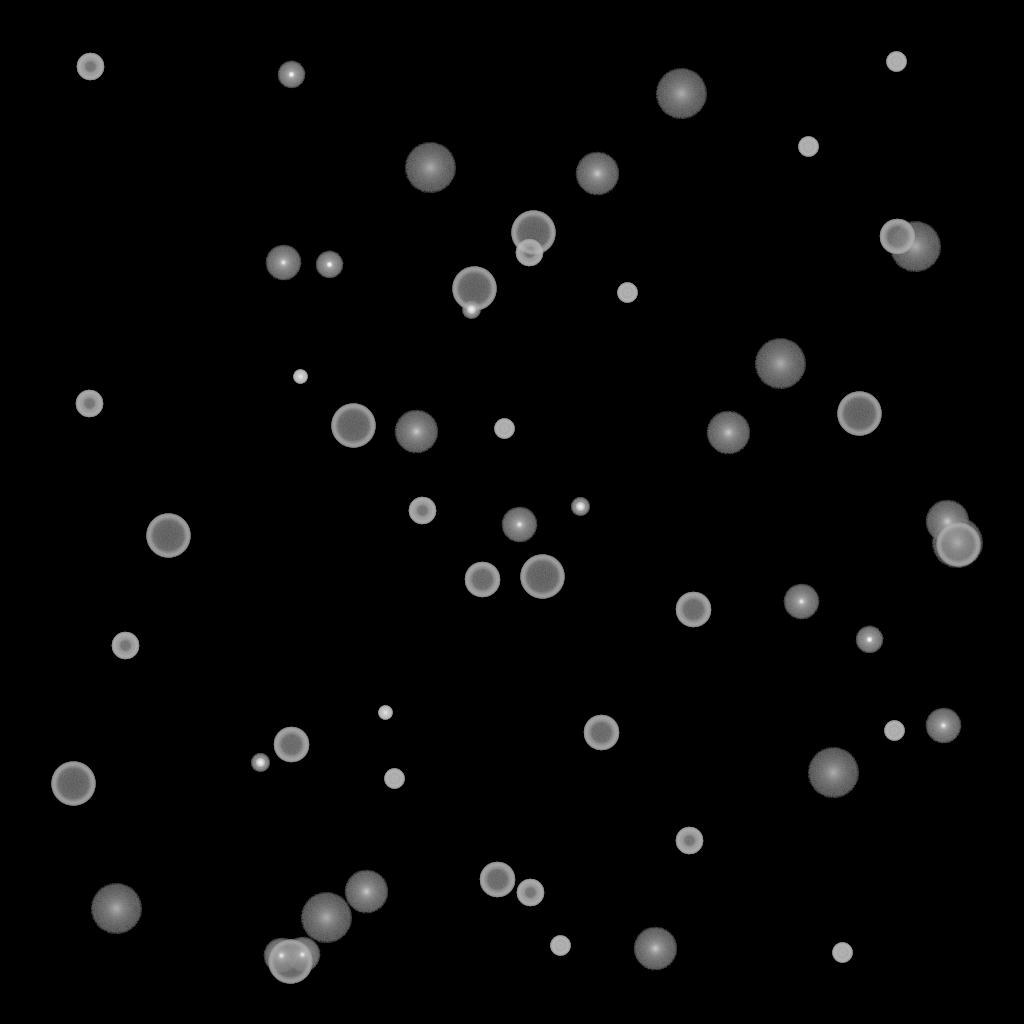depth:-10: (315, 251, 343, 279), (855, 626, 883, 654), (277, 61, 305, 89)
depth:-20: (251, 754, 269, 772), (462, 301, 480, 319), (571, 498, 589, 516)
depth:-30: (293, 370, 307, 384), (378, 706, 392, 720)
depth:-40: (494, 419, 514, 439), (550, 936, 570, 956), (798, 137, 818, 157), (884, 721, 904, 741), (617, 283, 637, 303), (384, 769, 404, 789), (886, 52, 906, 72), (832, 943, 852, 963)
depth:-50: (111, 632, 139, 660), (516, 879, 544, 907), (76, 53, 104, 81), (75, 390, 103, 418), (675, 827, 703, 855), (515, 239, 543, 267), (408, 497, 436, 525)
depth:-60: (879, 219, 915, 255), (273, 727, 309, 763), (479, 862, 515, 898), (675, 592, 711, 628), (464, 562, 500, 598), (583, 715, 619, 751)
depth:-70: (452, 267, 496, 311), (331, 404, 375, 448), (837, 392, 881, 436), (520, 555, 564, 599), (146, 514, 190, 558), (268, 940, 312, 984), (51, 762, 95, 806), (511, 211, 555, 255), (936, 523, 980, 567)
depth:0: (263, 938, 299, 974), (925, 708, 961, 744), (265, 245, 301, 281), (284, 937, 320, 973), (501, 507, 537, 543), (783, 584, 819, 620)
depth:10: (925, 500, 969, 544), (706, 411, 750, 455), (394, 410, 438, 454), (344, 870, 388, 914), (575, 152, 619, 196), (633, 927, 677, 971)
depth:20: (300, 893, 352, 943), (655, 69, 707, 119), (754, 339, 806, 389), (889, 222, 941, 272), (404, 143, 456, 193), (931, 518, 983, 568), (90, 884, 142, 934), (807, 748, 859, 798)
